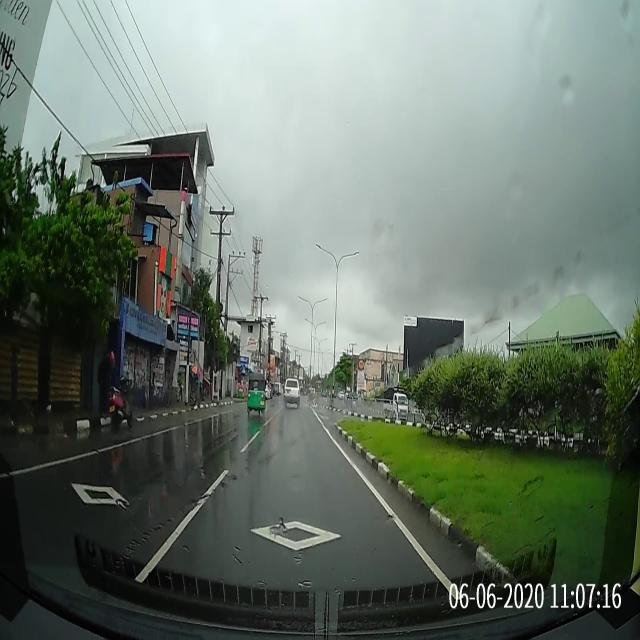Romb: (248, 520, 343, 552), (70, 482, 130, 504)
